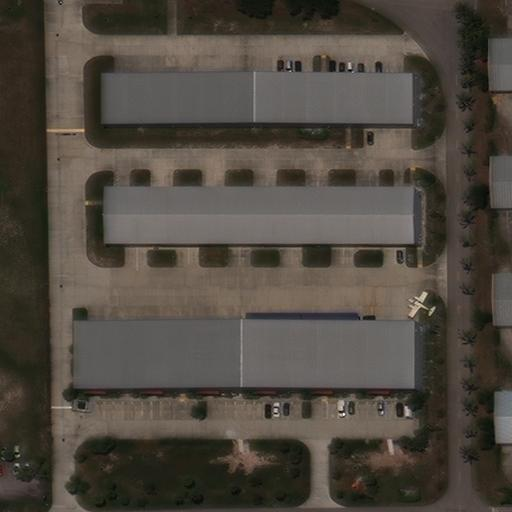Small Civil Transport: (406, 290, 434, 316)
